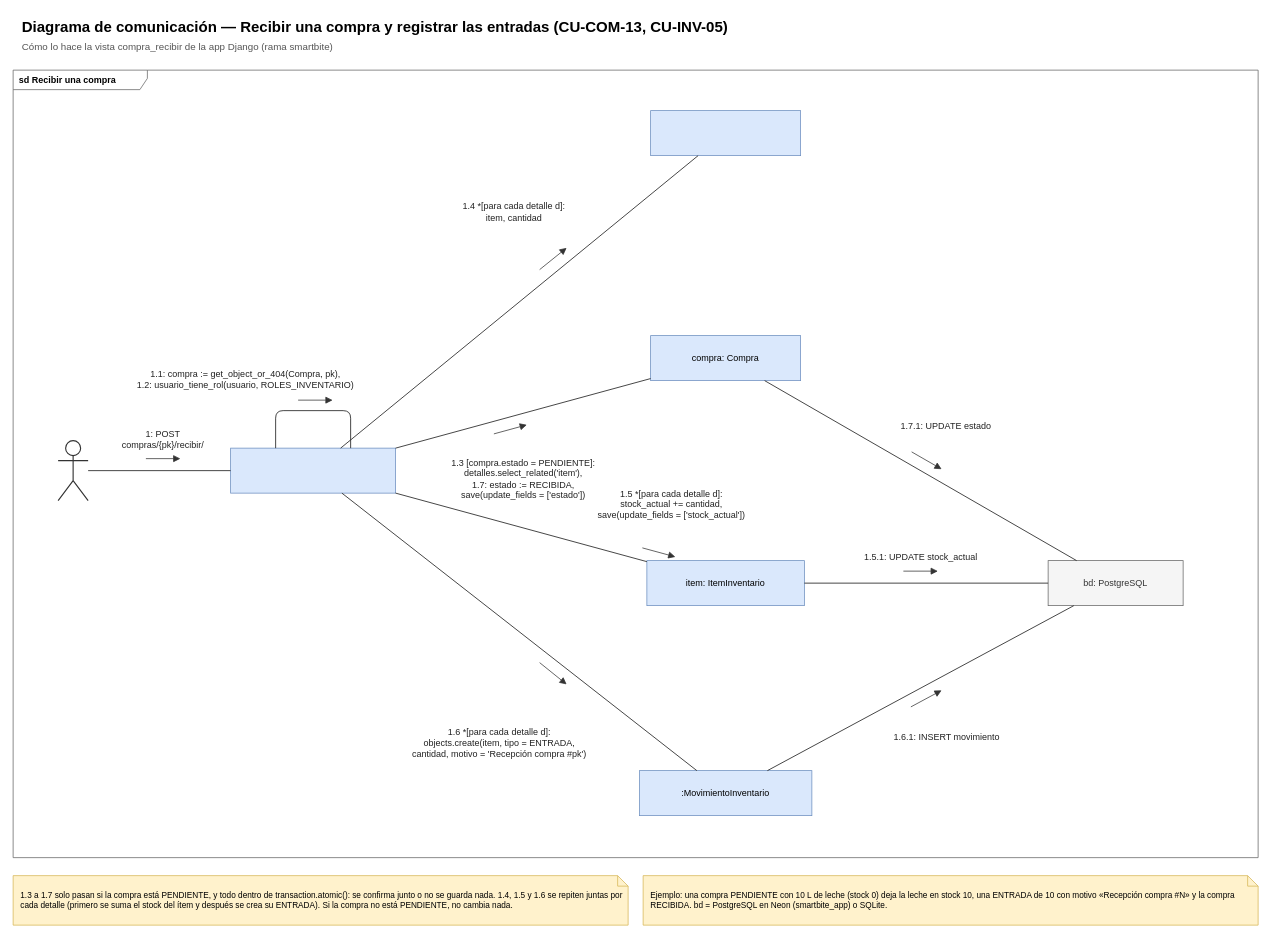
The diagram is 1271 pixels wide and 938 high, and some of its shapes have lost their labels. The shapes that lost their labels are listed below. From the top down, each one's box as (x1, y1, x2, y2) in pixels, then its label:
(650, 110, 801, 156): d: DetalleCompra
(57, 440, 88, 501): Jefe de Inventario
(230, 447, 396, 493): «vista» :compra_recibir
